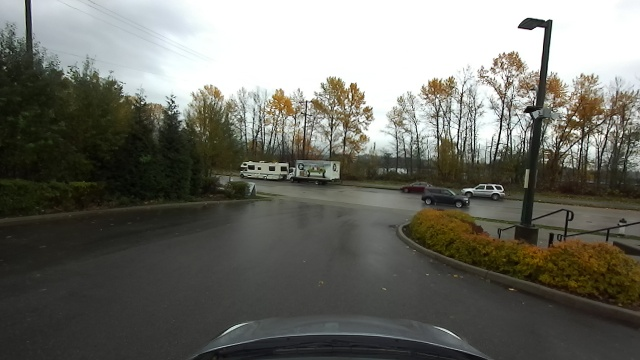car: (286, 157, 343, 189), (238, 158, 286, 181), (420, 187, 469, 209), (464, 179, 507, 201), (401, 180, 434, 192)
